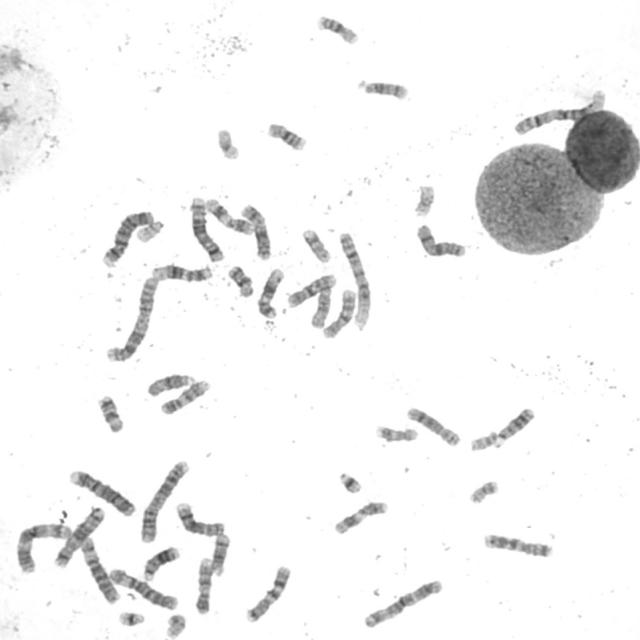A1: (510, 86, 610, 138), (335, 228, 374, 330)
A2: (103, 273, 161, 363), (136, 456, 191, 544)
A3: (360, 575, 446, 630), (12, 519, 74, 574)
B4: (65, 466, 138, 518), (99, 206, 156, 268)
B5: (51, 502, 107, 568), (186, 193, 226, 263)
C10: (319, 285, 359, 340), (284, 270, 339, 308)
C11: (330, 497, 390, 536), (203, 194, 257, 237)
C12: (254, 264, 287, 320), (148, 260, 215, 284)
C6: (106, 564, 181, 612), (76, 534, 122, 604)
C7: (242, 562, 294, 624), (481, 529, 556, 559)
C8: (404, 402, 464, 448), (174, 498, 226, 538)
C9: (158, 376, 212, 416), (193, 554, 215, 615)
D13: (492, 403, 537, 448), (140, 542, 182, 582)
D14: (355, 75, 411, 101), (208, 530, 232, 578)
D15: (307, 279, 336, 329), (144, 371, 196, 398)
E16: (314, 10, 362, 46), (264, 118, 309, 152)
E17: (299, 225, 333, 264), (372, 421, 420, 443)
E18: (94, 391, 126, 434), (225, 262, 256, 298)
F19: (410, 180, 438, 218), (214, 124, 242, 161)
F20: (466, 476, 502, 506), (163, 611, 188, 639)
G21: (335, 468, 365, 495), (115, 608, 147, 628)
G22: (133, 216, 166, 244), (468, 427, 500, 453)
X: (412, 220, 469, 259), (238, 200, 274, 261)
